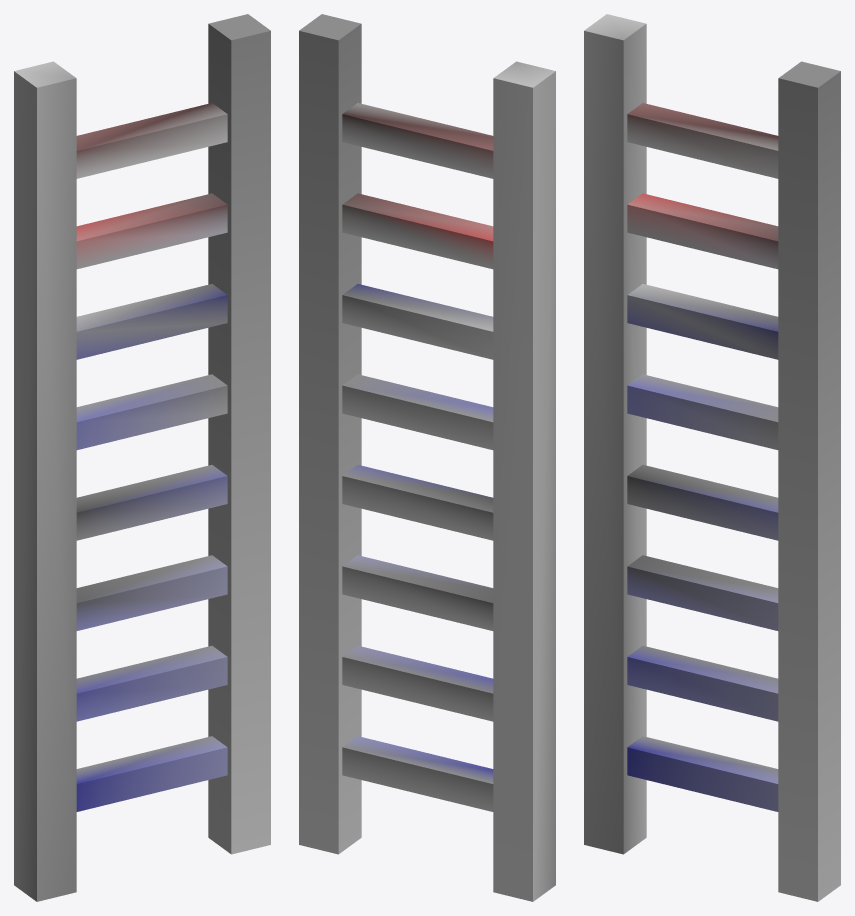
Rendered from Ladder.fbx.
3 views of the same model, side by side, from view 1: azimuth 30°, elevation 25°; view 2: azimuth 150°, elevation 25°; view 3: azimuth 330°, elevation 25° (orthographic).
Parts seen in each view (by area): view 1: Ladder; view 2: Ladder; view 3: Ladder.
Part boxes in pixels (x1,y1,x2,y2): Ladder: (14,14,270,901); Ladder: (299,14,555,901); Ladder: (584,14,840,901).
Bounding box in the file's own units: 0.7523 × 2.5 × 0.1273.
